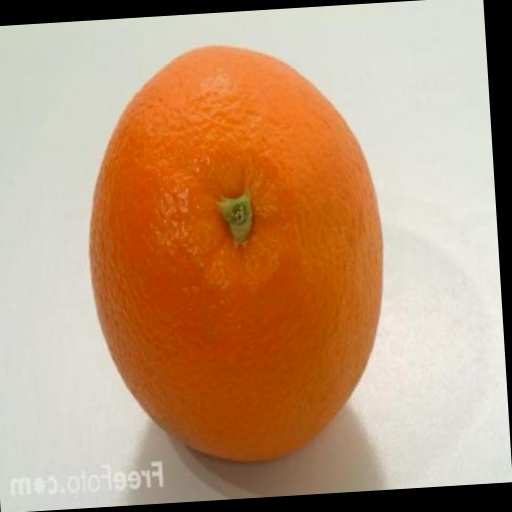fruit: (89, 47, 381, 460)
